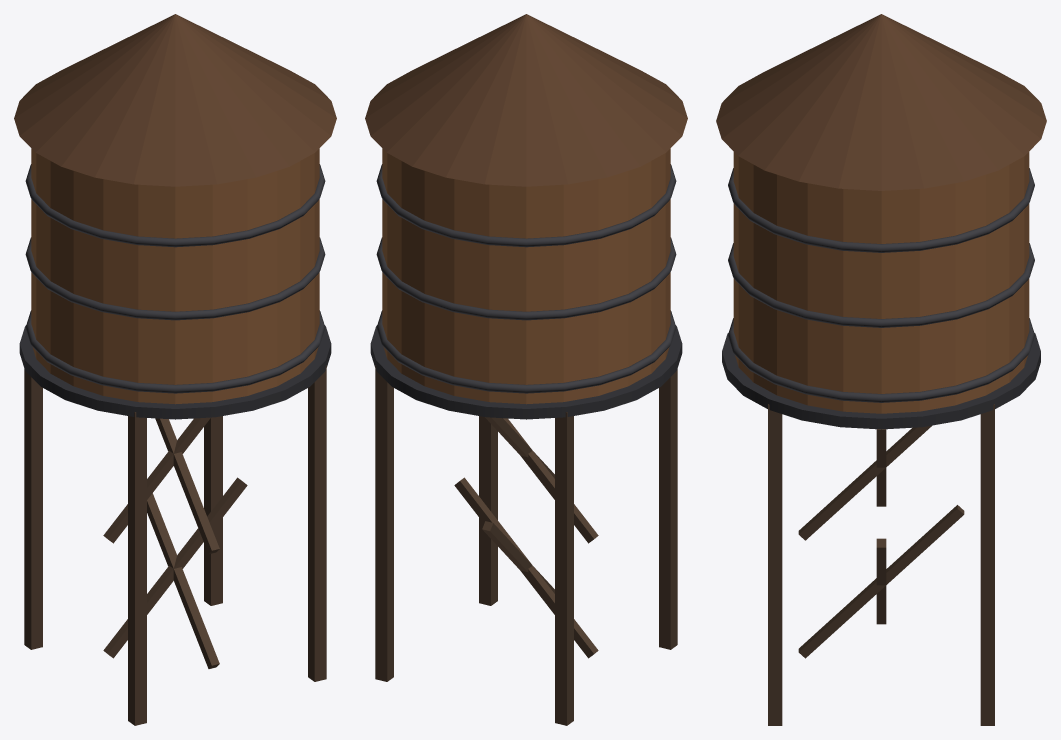
File: water_tower.glb
The picture shows the model from 3 angles, left to right: view 1: azimuth 30°, elevation 25°; view 2: azimuth 150°, elevation 25°; view 3: azimuth 270°, elevation 25°; orthographic projection. The views are drawn at different scales.
Visible parts, largest first — view 1: main; view 2: main; view 3: main.
Part boxes in pixels (left/top/right/bottom): main: left=14, top=14, right=336, bottom=725; main: left=365, top=14, right=687, bottom=725; main: left=716, top=14, right=1046, bottom=725.
Size of the model in its own units: 2.8 by 6.2 by 2.8.
